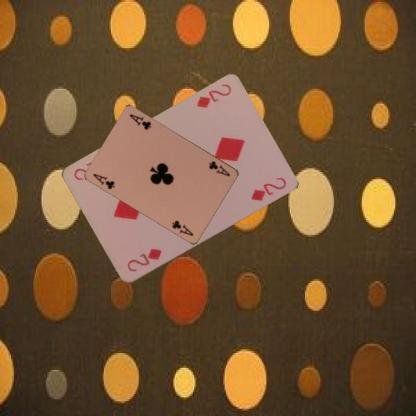2d: (193, 81, 233, 110), (124, 245, 163, 274)
Ac: (206, 158, 232, 178), (90, 171, 116, 191)
